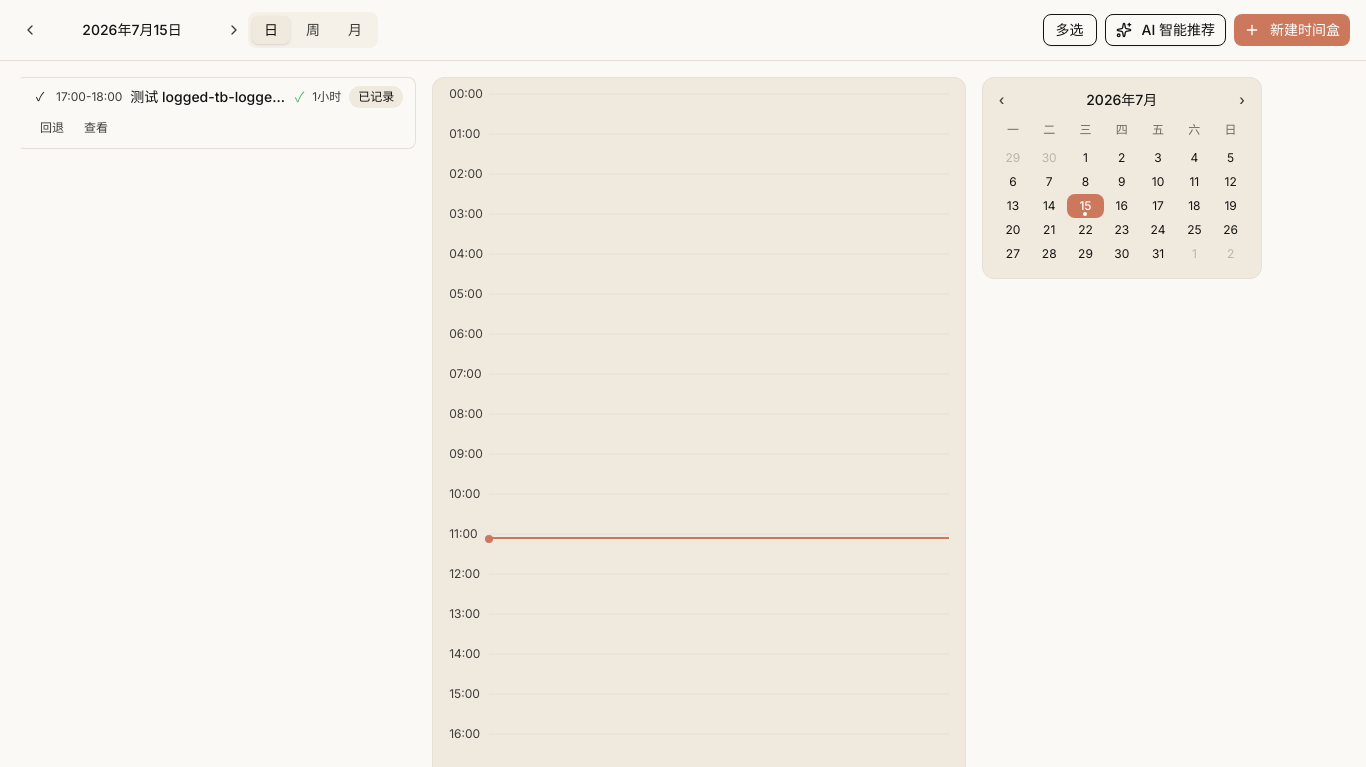
Test: [023.13] T7 — workspace handleAction("revert") 走 AlertDialog 二次确认 › logged+executionRecord 卡点回退 → 触发确认弹窗 → 点确认 → revertTimebox(id, {clearExecutionRecord:true})
等 DayView 渲染出 logged 卡的「回退」按钮
Click the button "回退". click: (52, 128)
box: 32,116 -> 72,140
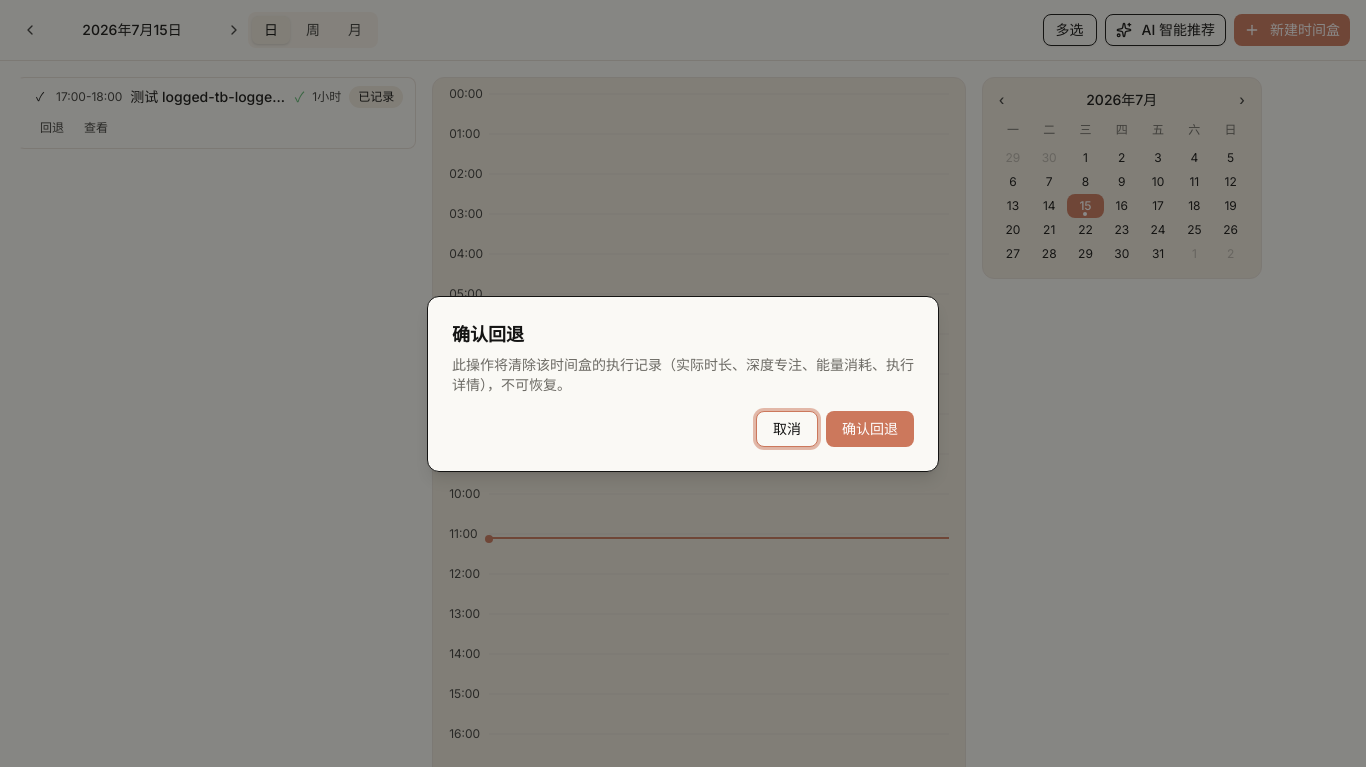
expect the heading "确认回退" is shown: met, box 452,321 -> 524,349
expect the text "此操作将清除该时间盒的执行记录（实际时长、深度专注、能量消耗、执行详情），不可恢复。" is shown: met, box 452,355 -> 914,395
Click the button with test id "revert-confirm-btn". click: (870, 429)
box: 826,411 -> 914,447
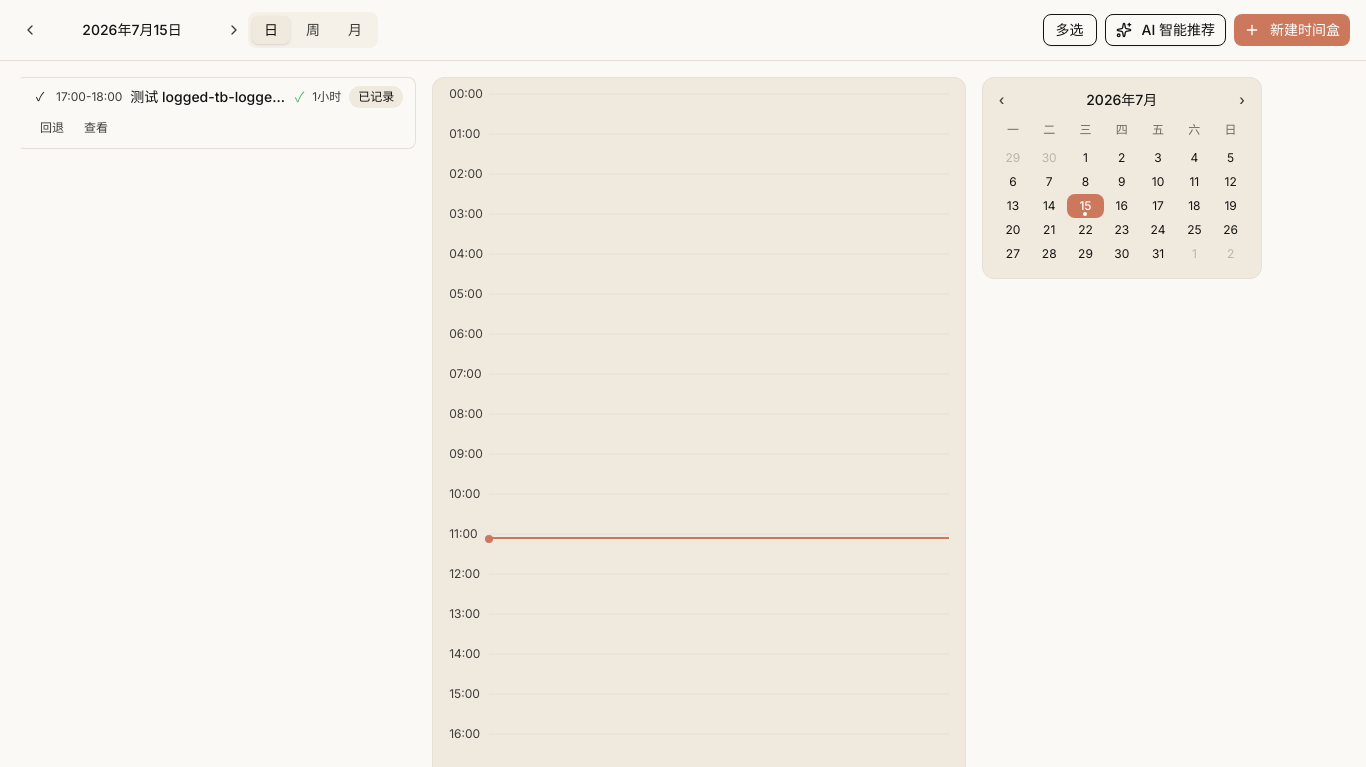
expect the heading "确认回退" is gone: met
